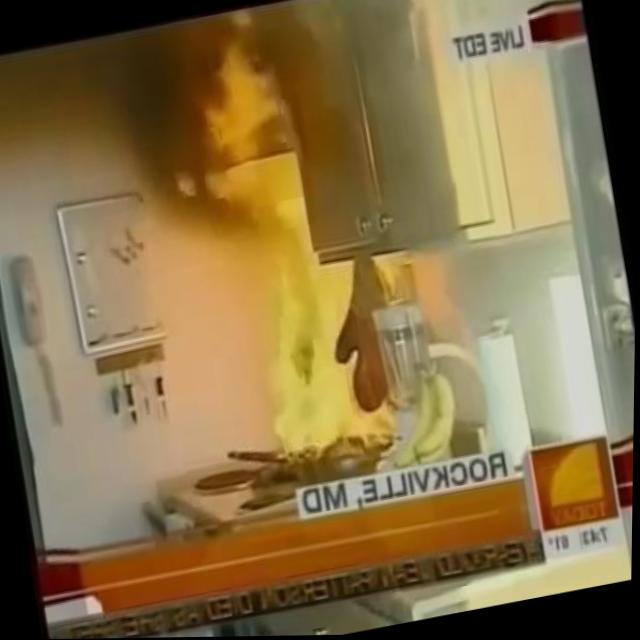fire: (231, 221, 415, 473)
